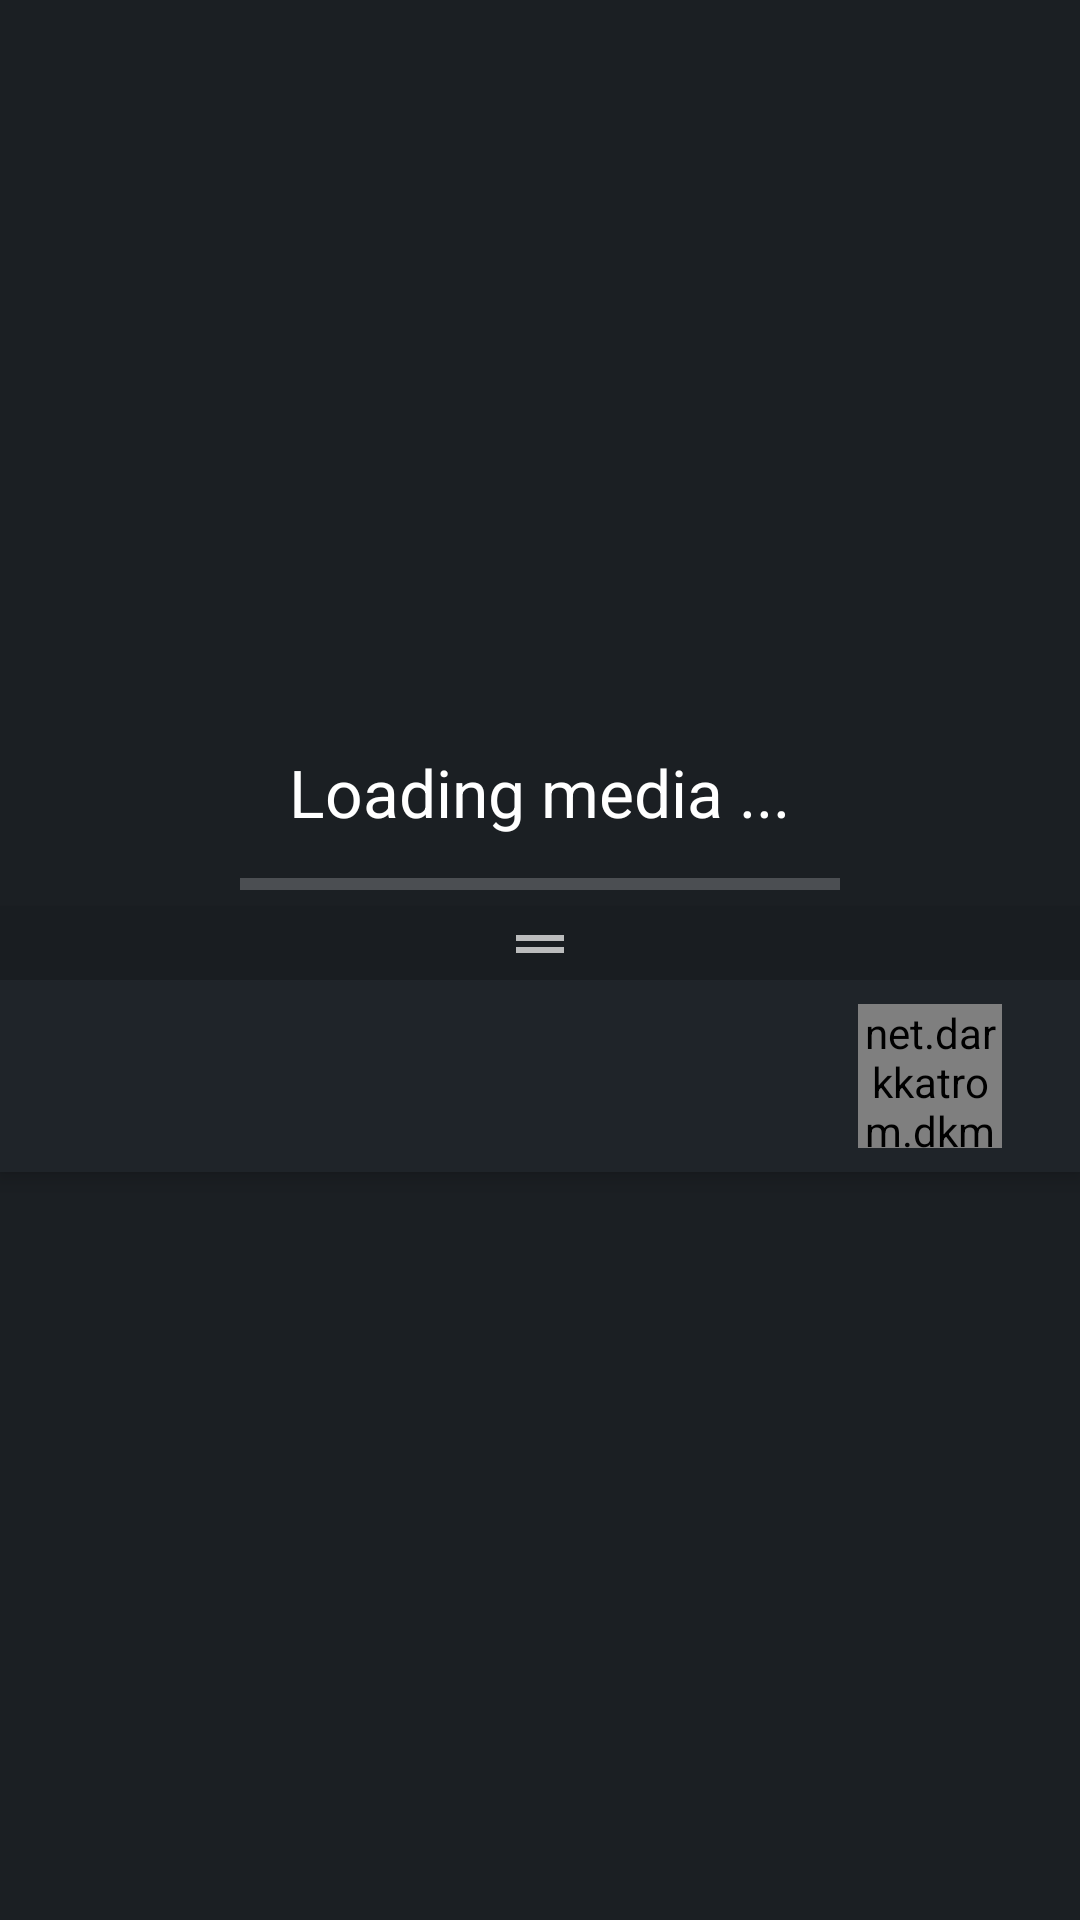

Screen size 1080 × 1920. Icon name, then its box in pixels as (x1, y1, x2, y2):
drag handle: (516, 935, 564, 953)
